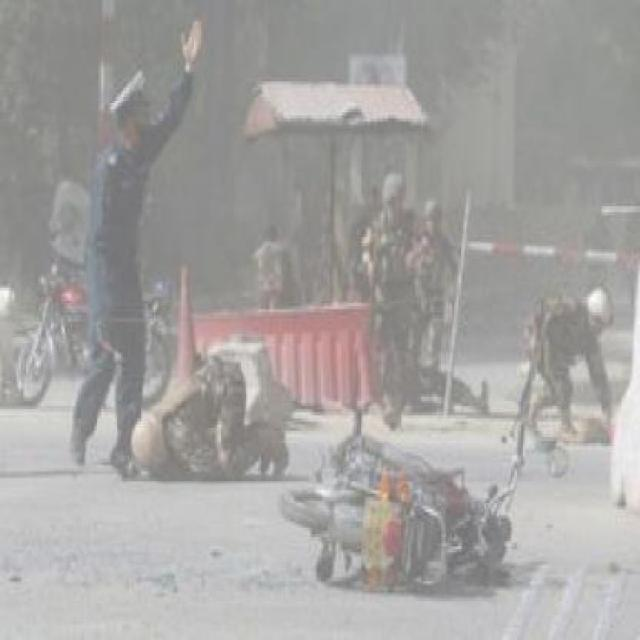fall: (115, 340, 300, 485)
